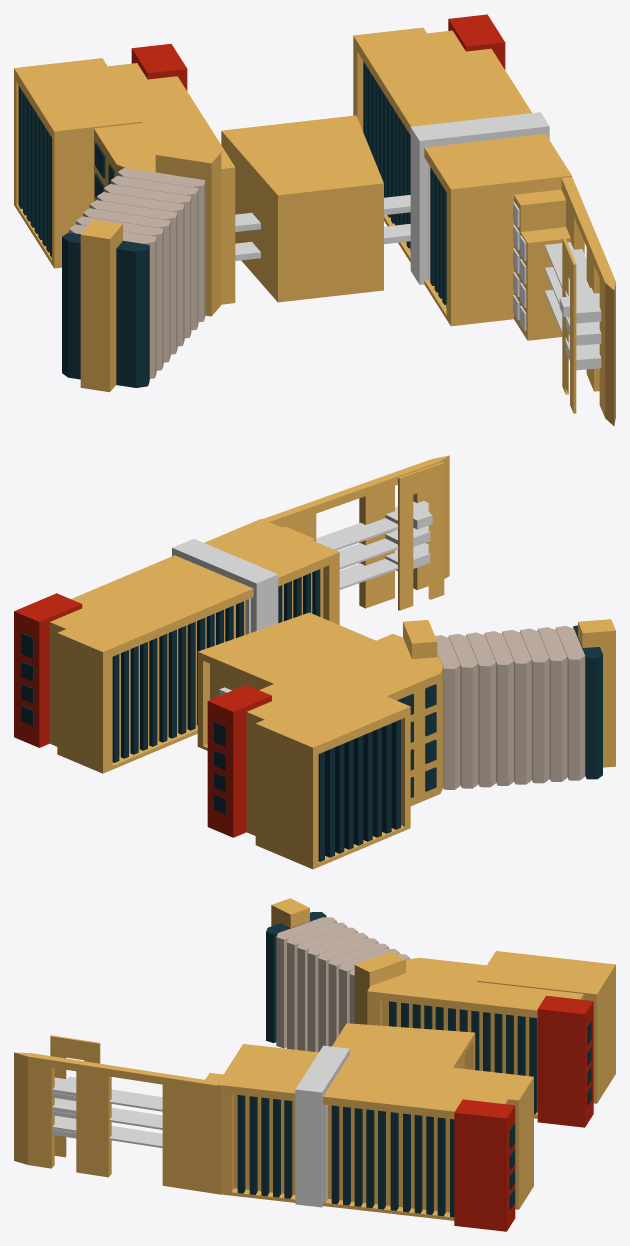
Rendered from 艺术楼.FBX.
3 views of the same model, one above another, from view 1: azimuth 30°, elevation 25°; view 2: azimuth 150°, elevation 25°; view 3: azimuth 270°, elevation 25° (orthographic). The views are drawn at different scales.
Visible parts, largest first — view 1: YSL24, YSL22, YSL118, YSL00, YSL11, YSL21, YSL26, YSL27, YSL28, YSL12, YSL41, YSL06 (+25 smaller); view 2: YSL24, YSL118, YSL00, YSL22, YSL28, YSL02, YSL25, YSL41, YSL26, YSL04, YSL08, YSL10 (+29 smaller); view 3: YSL24, YSL28, YSL00, YSL25, YSL02, YSL118, YSL22, YSL26, YSL12, YSL10, YSL07, YSL09 (+32 smaller).
Boxes of the visible parts, left/top/right/bottom form: YSL24: left=353, top=27, right=571, bottom=326; YSL22: left=221, top=115, right=383, bottom=302; YSL118: left=14, top=58, right=142, bottom=268; YSL00: left=94, top=63, right=235, bottom=304; YSL11: left=62, top=232, right=149, bottom=387; YSL21: left=80, top=219, right=122, bottom=392; YSL26: left=410, top=112, right=549, bottom=284; YSL27: left=514, top=189, right=570, bottom=340; YSL28: left=561, top=177, right=615, bottom=426; YSL12: left=155, top=143, right=221, bottom=316; YSL41: left=562, top=237, right=576, bottom=413; YSL06: left=96, top=192, right=184, bottom=346; YSL24: left=49, top=519, right=339, bottom=773; YSL118: left=255, top=682, right=410, bottom=869; YSL00: left=246, top=634, right=443, bottom=835; YSL22: left=197, top=612, right=375, bottom=750; YSL28: left=262, top=455, right=449, bottom=608; YSL02: left=207, top=684, right=271, bottom=837; YSL25: left=14, top=593, right=82, bottom=747; YSL41: left=398, top=462, right=444, bottom=610; YSL26: left=172, top=538, right=278, bottom=632; YSL04: left=448, top=633, right=478, bottom=788; YSL08: left=520, top=628, right=549, bottom=783; YSL10: left=555, top=625, right=585, bottom=780; YSL24: left=217, top=1044, right=533, bottom=1220; YSL28: left=14, top=1052, right=221, bottom=1194; YSL00: left=367, top=957, right=583, bottom=1118; YSL25: left=454, top=1099, right=515, bottom=1231; YSL02: left=537, top=995, right=593, bottom=1127; YSL118: left=477, top=951, right=615, bottom=1103; YSL22: left=332, top=1023, right=475, bottom=1069; YSL26: left=295, top=1045, right=349, bottom=1207; YSL12: left=354, top=952, right=405, bottom=1024; YSL10: left=276, top=917, right=336, bottom=1048; YSL07: left=307, top=933, right=368, bottom=1052; YSL09: left=287, top=922, right=347, bottom=1049.
Size of the model in its own units: 6461 by 1743 by 7778.
